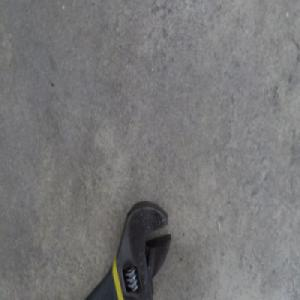AdjustableWrench: (85, 200, 171, 299)
